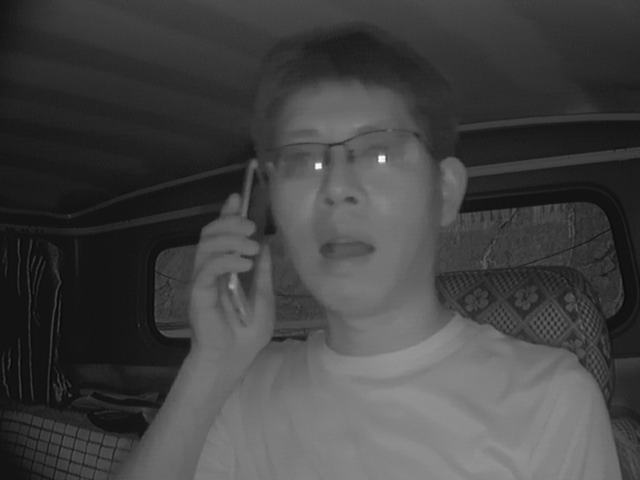hand: (178, 195, 283, 351)
